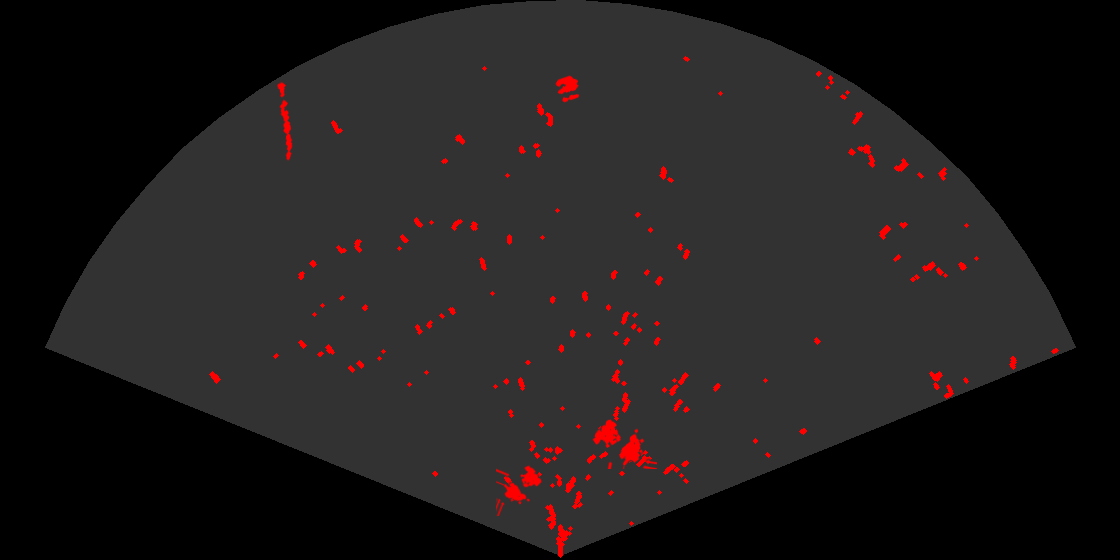ball: (553, 74, 581, 104)
cage: (591, 418, 657, 469), (496, 464, 543, 516)
chain: (276, 79, 294, 161)
